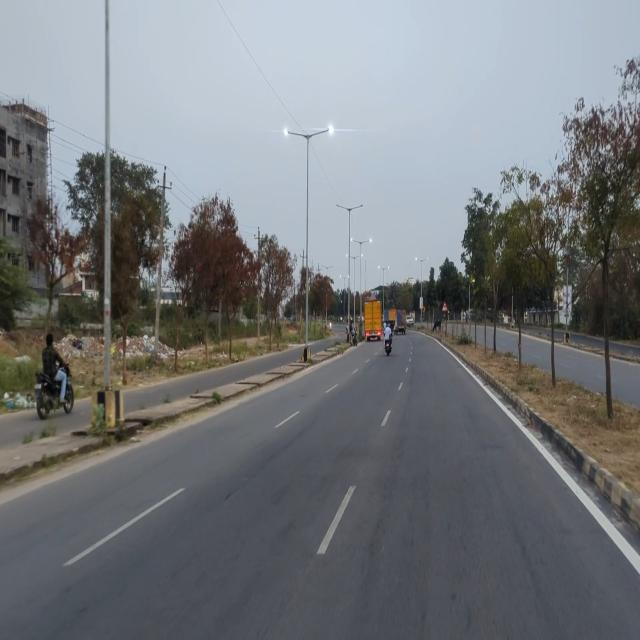bien_cam: (441, 300, 449, 312)
